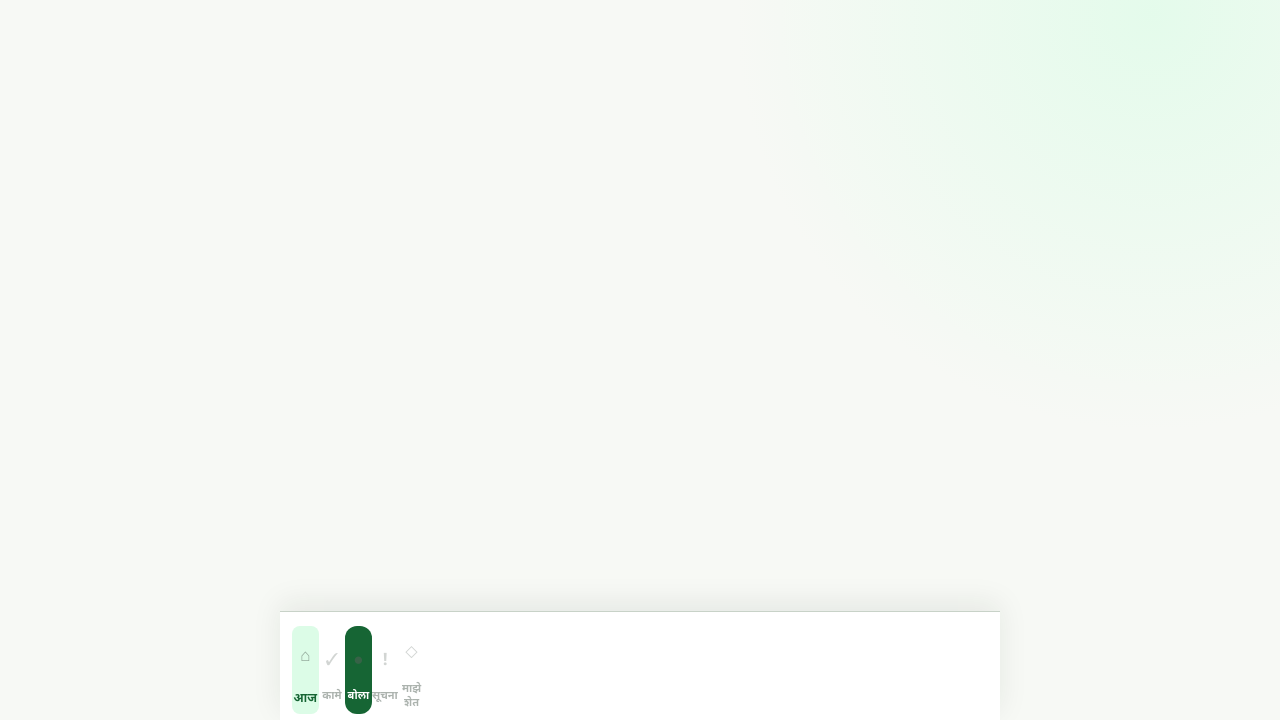
Test case: Farmer contextual Speak shell › shows a multilingual recommendation result from the voice tool with an details link
Step 1. Click the button "● बोला" → (358, 670), box x1=345 y1=626 x2=372 y2=714
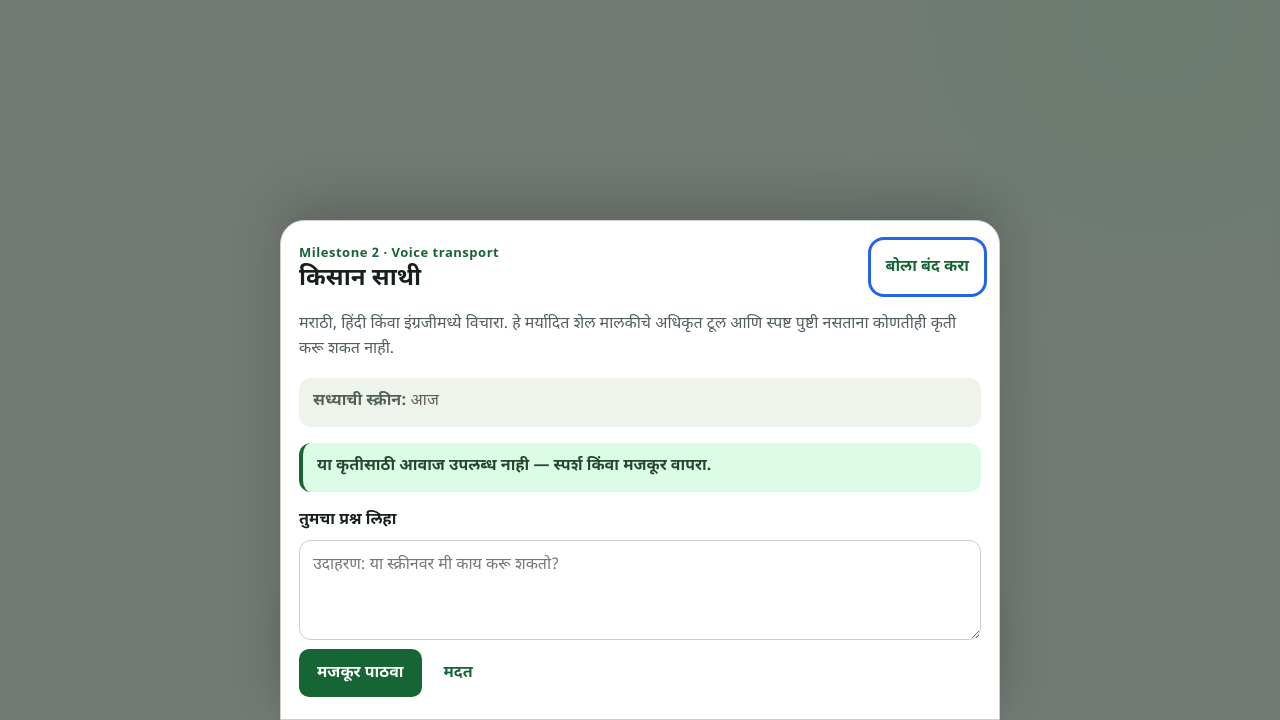
Step 2. Type "माझ्या शेतात कोणते पीक घ्यावे आणि का?" into the text box labelled "तुमचा प्रश्न लिहा" → (640, 590), box x1=299 y1=540 x2=981 y2=640
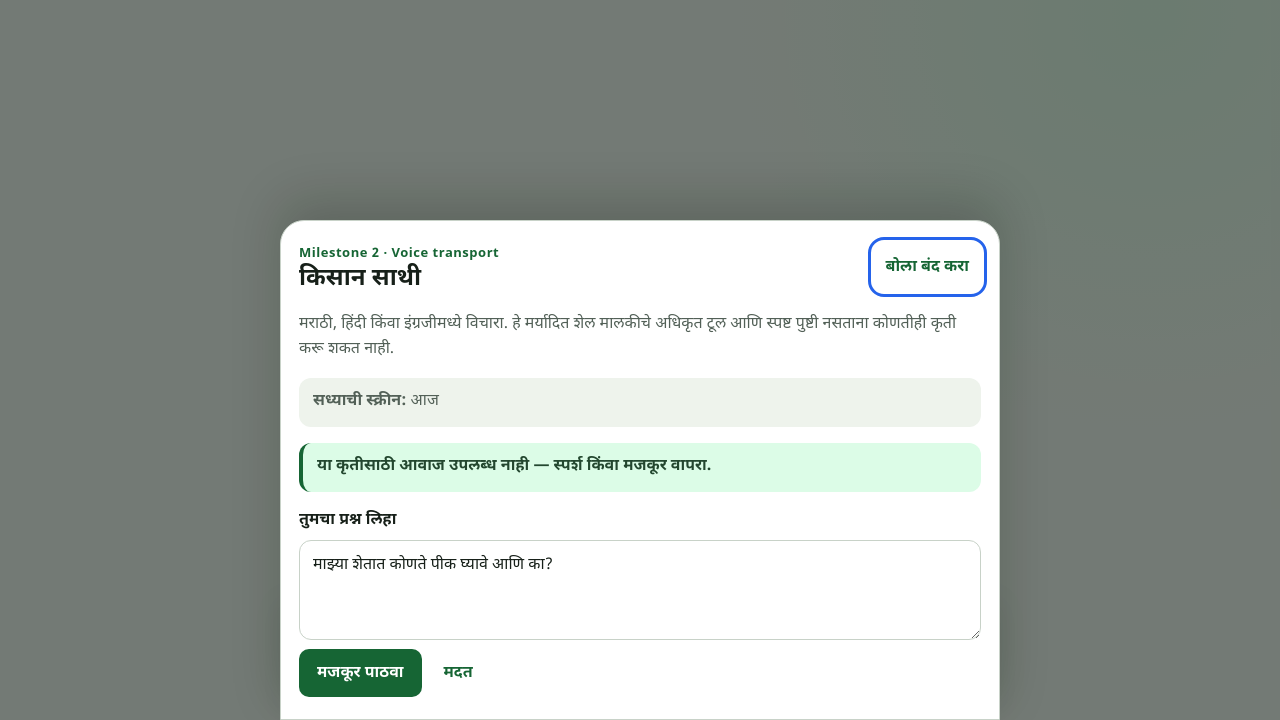
Step 3. Click the button "मजकूर पाठवा" → (360, 673), box x1=299 y1=649 x2=422 y2=697
(page scrolled)
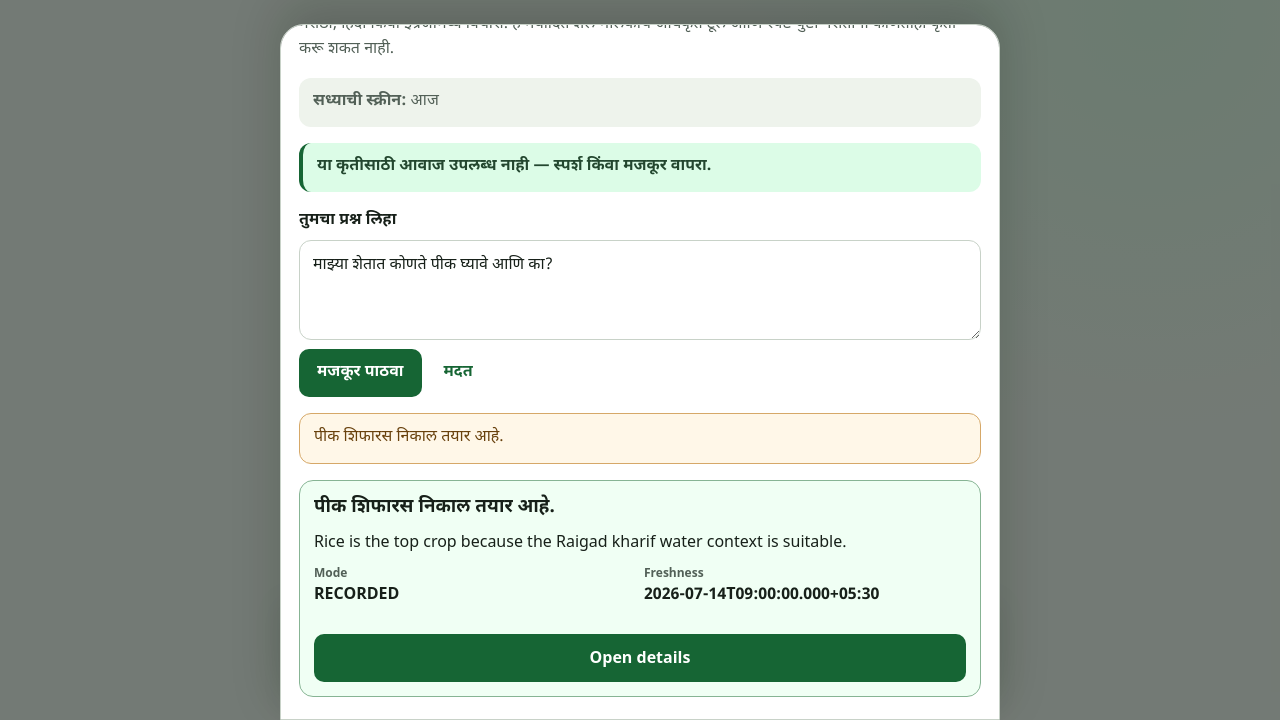
Now the text "पीक शिफारस निकाल तयार आहे." is shown 2 times, box x1=299 y1=413 x2=981 y2=464; x1=314 y1=495 x2=555 y2=520
Now the text "Rice is the top crop" is shown, box x1=314 y1=533 x2=846 y2=554
Now the text "RECORDED" is shown, box x1=314 y1=585 x2=399 y2=606
